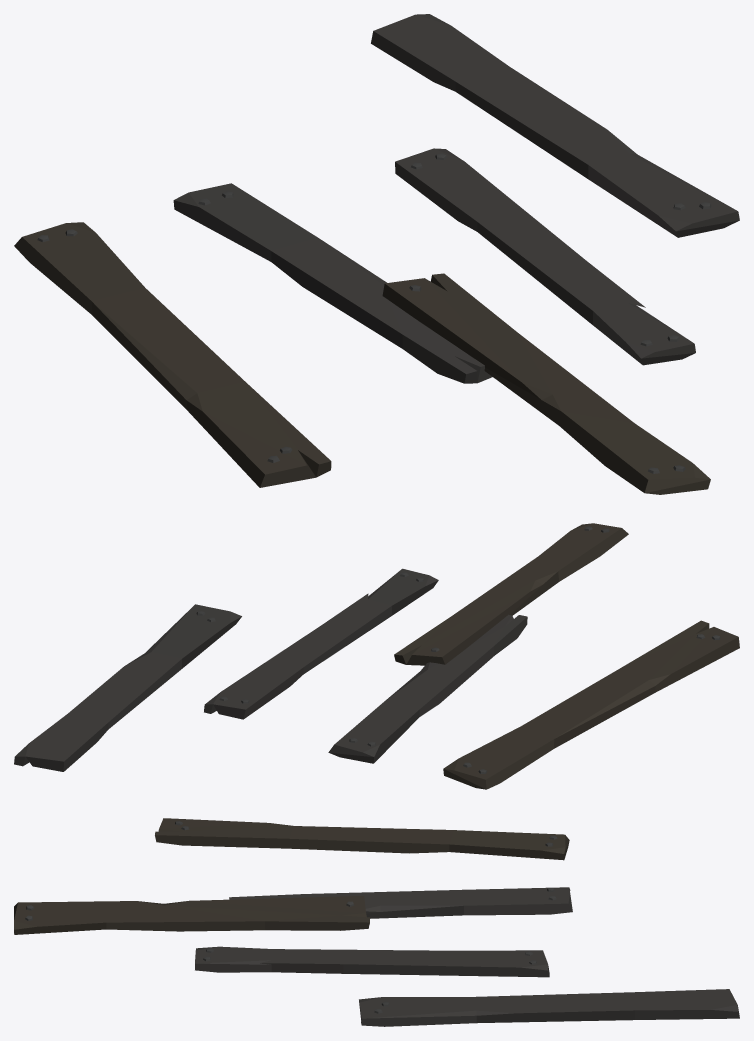
The model's file is SM_Bld_Floor_Damaged_01.fbx.
The picture shows the model from 3 angles, top to bottom: view 1: azimuth 30°, elevation 25°; view 2: azimuth 150°, elevation 25°; view 3: azimuth 270°, elevation 25°; orthographic projection. The views are drawn at different scales.
Parts seen in each view (by area): view 1: SM_Bld_Floor_Damaged_01; view 2: SM_Bld_Floor_Damaged_01; view 3: SM_Bld_Floor_Damaged_01.
Boxes of the visible parts, x1,y1,x2,y2 form: SM_Bld_Floor_Damaged_01: (14,14,739,494); SM_Bld_Floor_Damaged_01: (14,523,739,789); SM_Bld_Floor_Damaged_01: (14,818,739,1026).
Size of the model in its own units: 168 by 7.47 by 253.
